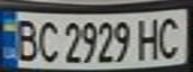2: (60, 18, 81, 64), (97, 18, 118, 64)
9: (112, 17, 136, 63), (78, 18, 100, 65)
B: (9, 15, 42, 63)
C: (154, 12, 187, 60), (33, 17, 60, 64)
H: (136, 15, 166, 61)
